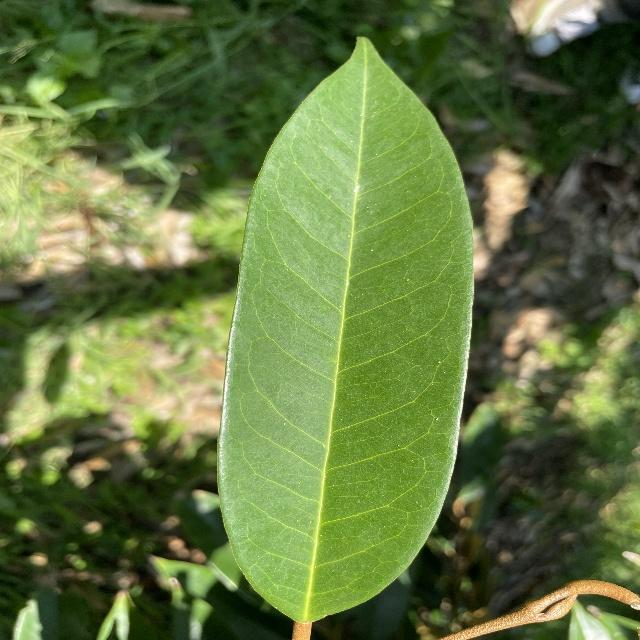No Disease: (205, 32, 485, 627)
